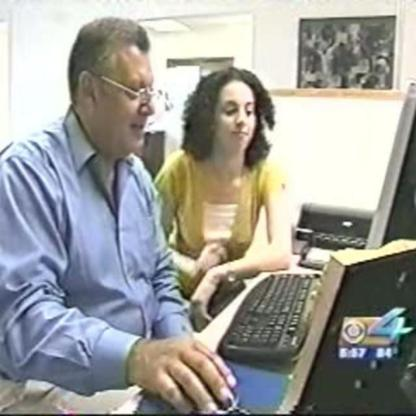face: (99, 54, 154, 154), (217, 84, 260, 150)
